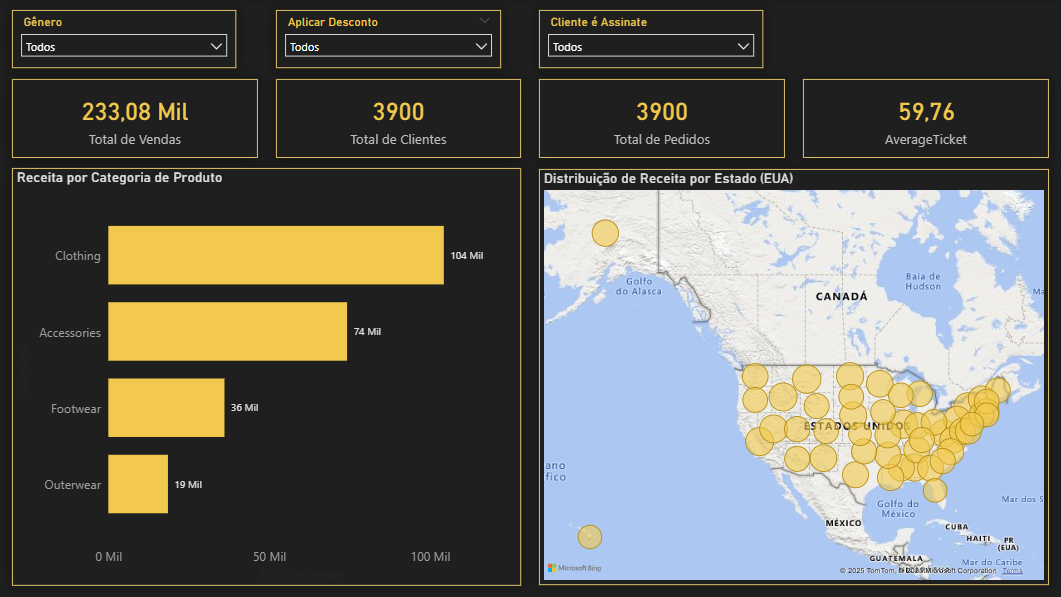

What the dashboard file says about the page in this screenshot:
{"tool":"powerbi","page":{"name":"Visão Executiva","canvas":[1280,720],"ordinal":0},"visuals":[{"type":"card","fields":{"Values":["DimShopping.TotalSales"]},"box":[16.2,95.2,296.2,95],"z":0},{"type":"card","fields":{"Values":["DimShopping.TotalOrders"]},"box":[650,95.2,296.2,95],"z":1000},{"type":"card","fields":{"Values":["DimShopping.TotalCustomers"]},"box":[333.8,95.2,295,95],"z":2000},{"type":"card","fields":{"Values":["DimShopping.AverageTicket"]},"box":[967.5,95.2,296.2,95],"z":3000},{"type":"barChart","title":"Receita por Categoria de Produto","fields":{"Category":["FactShopping.Category_PT"],"Y":["DimShopping.TotalSales"]},"box":[16.2,202.5,612.5,502.5],"z":4000},{"type":"map","title":"Distribuição de Receita por Estado (EUA)","fields":{"Category":["DimShopping.State"],"Size":["FactShopping.TotalSales"]},"box":[650,203.8,613.8,501.2],"z":5000},{"type":"slicer","fields":{"Values":["DimShopping.Gender_PT"]},"box":[30,12.5,270,68.8],"z":6000},{"type":"slicer","fields":{"Values":["DimShopping.DiscountApplied_PT"]},"box":[345,12.5,271.2,68.8],"z":7000},{"type":"slicer","fields":{"Values":["DimShopping.SubscriptionStatus_PT"]},"box":[663.8,12.5,268.8,68.8],"z":8000}]}

Visuals, with their boxes in screenshot pixels (x1, y1, x2, y2), scaled from the page's 1280x720 canvas onto the 1061x597 screenshot:
card - DimShopping.TotalSales: <bbox>13, 79, 259, 158</bbox>
card - DimShopping.TotalOrders: <bbox>539, 79, 784, 158</bbox>
card - DimShopping.TotalCustomers: <bbox>277, 79, 521, 158</bbox>
card - DimShopping.AverageTicket: <bbox>802, 79, 1047, 158</bbox>
"Receita por Categoria de Produto" barChart: <bbox>13, 168, 521, 585</bbox>
"Distribuição de Receita por Estado (EUA)" map: <bbox>539, 169, 1048, 585</bbox>
slicer - DimShopping.Gender_PT: <bbox>25, 10, 249, 67</bbox>
slicer - DimShopping.DiscountApplied_PT: <bbox>286, 10, 511, 67</bbox>
slicer - DimShopping.SubscriptionStatus_PT: <bbox>550, 10, 773, 67</bbox>
